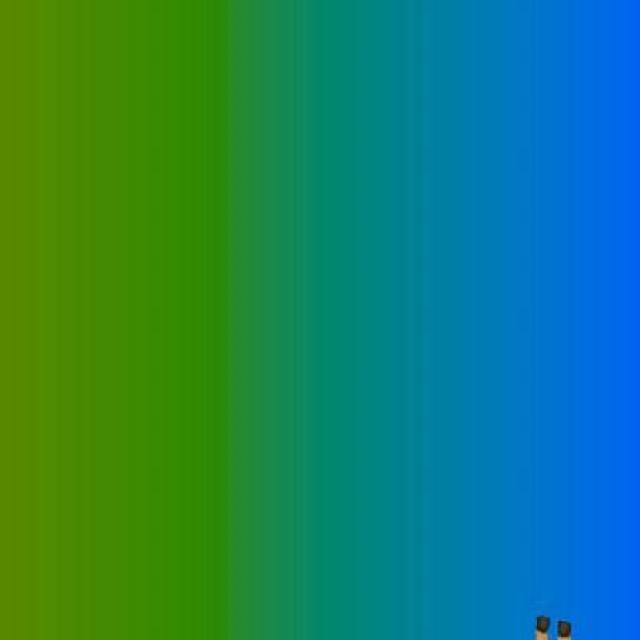Person: (533, 608, 578, 638)
